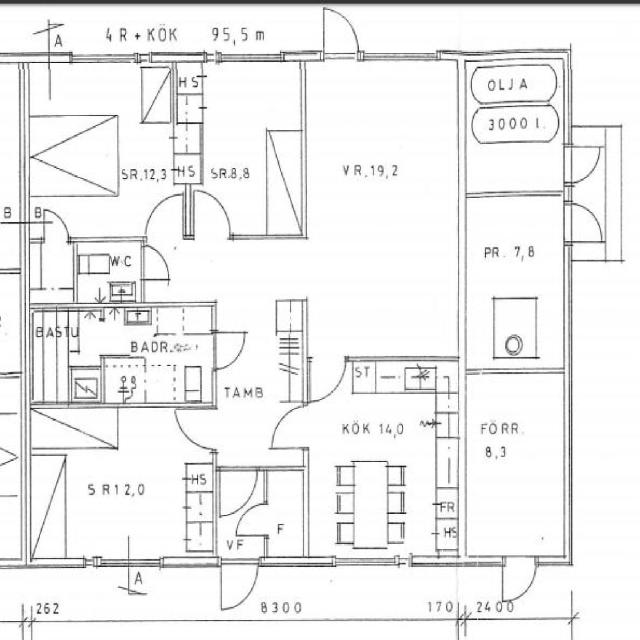door: (566, 146, 604, 247), (143, 188, 187, 248), (218, 467, 265, 518), (191, 186, 233, 243), (218, 556, 259, 612), (321, 6, 361, 62), (305, 354, 346, 405), (269, 402, 308, 452), (564, 200, 606, 245), (500, 556, 538, 604), (172, 406, 213, 450), (211, 328, 248, 372), (138, 242, 175, 285), (566, 144, 602, 184), (38, 206, 74, 244), (236, 499, 269, 538)
window: (362, 48, 440, 68), (68, 51, 139, 69), (334, 556, 400, 572), (85, 556, 163, 567)
zone: (304, 55, 462, 358), (305, 356, 465, 558), (28, 406, 217, 557), (29, 59, 188, 238), (182, 58, 304, 238), (463, 371, 568, 560), (29, 304, 216, 405), (464, 193, 568, 370), (463, 59, 565, 194), (74, 240, 144, 305), (264, 468, 306, 558)
